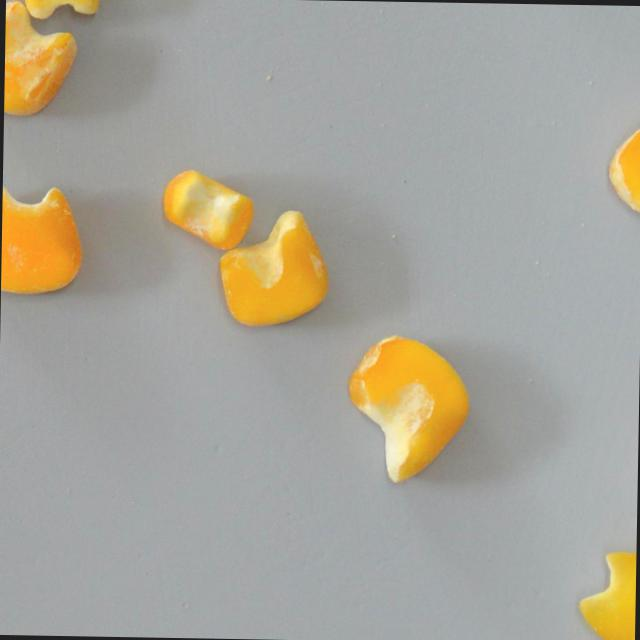dañado: (341, 330, 476, 490), (217, 202, 333, 332), (0, 179, 88, 300), (3, 0, 80, 121), (574, 549, 636, 640), (602, 109, 640, 226)
no_canjicado: (156, 164, 259, 249), (13, 0, 110, 24)
